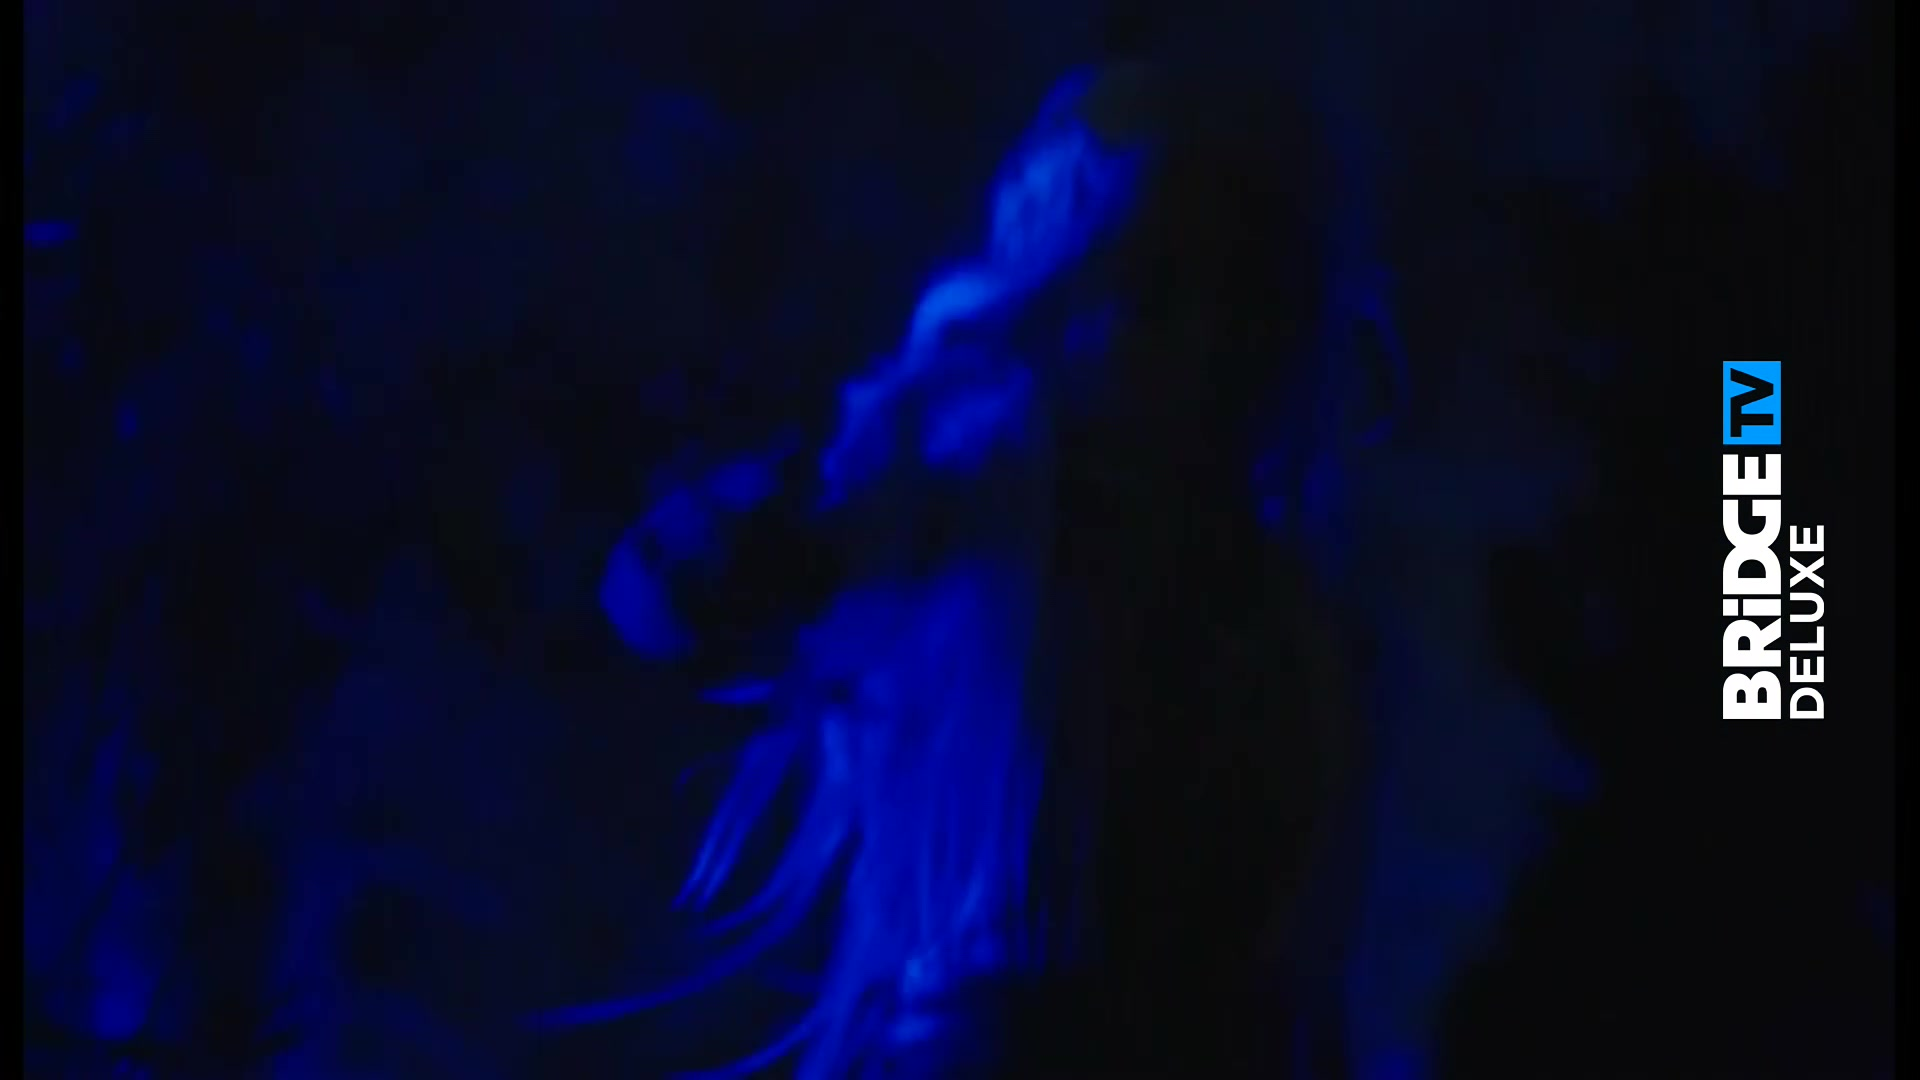Bridge_TV_Deluxe: (1716, 355, 1830, 728)
